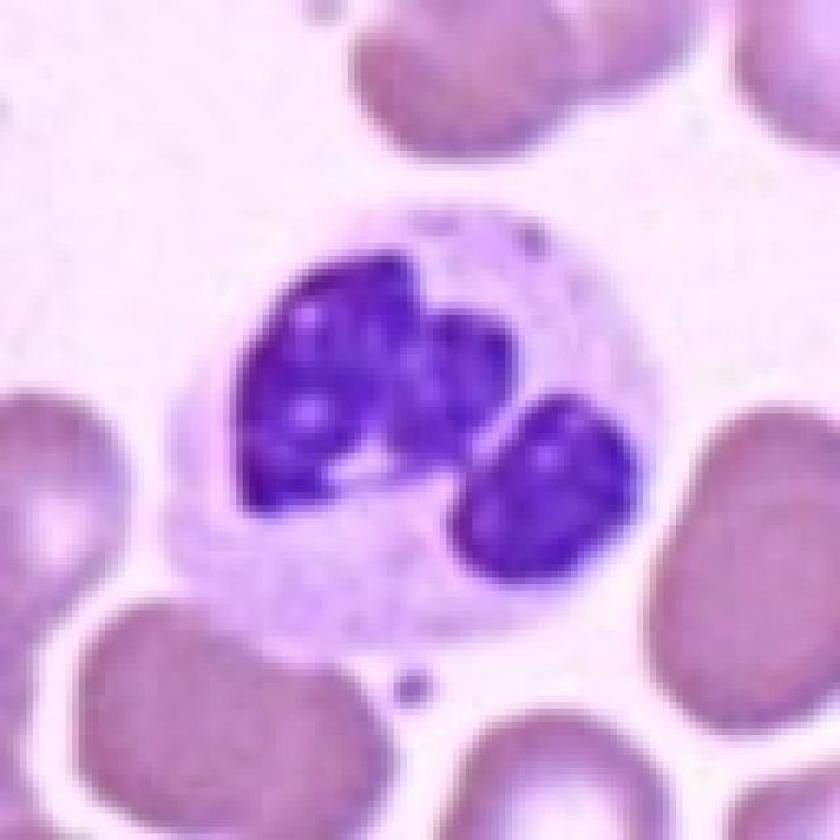neutrophil: (174, 131, 669, 669)
